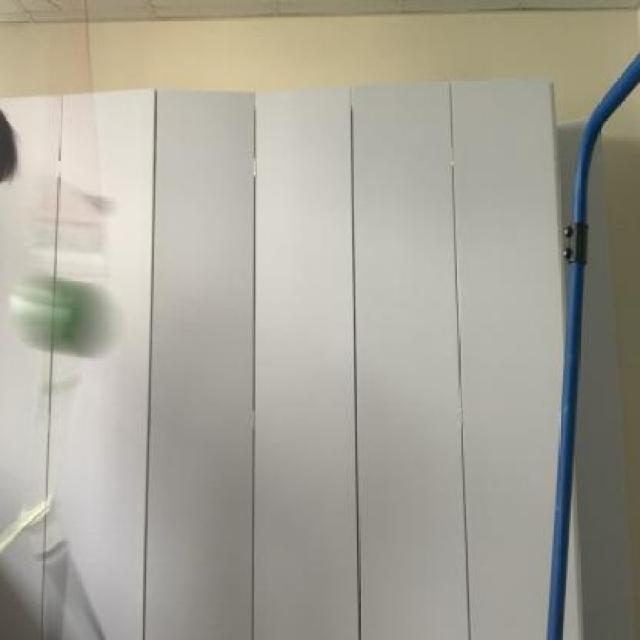baseball: (5, 274, 132, 363)
